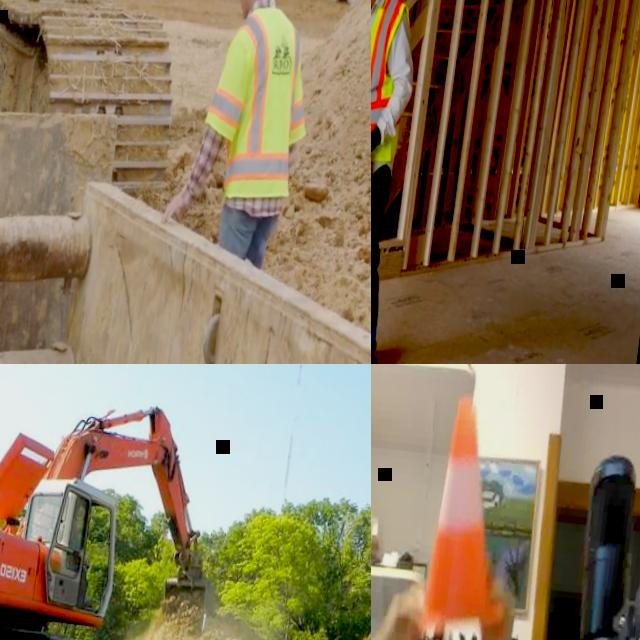NO-Mask: (236, 0, 252, 19)
Person: (156, 0, 327, 268), (371, 0, 433, 364), (59, 525, 101, 611)
Safety Cone: (397, 380, 533, 640)
Safety Vest: (200, 8, 316, 191), (371, 0, 418, 164)
machinery: (0, 373, 235, 640), (0, 0, 197, 208)
